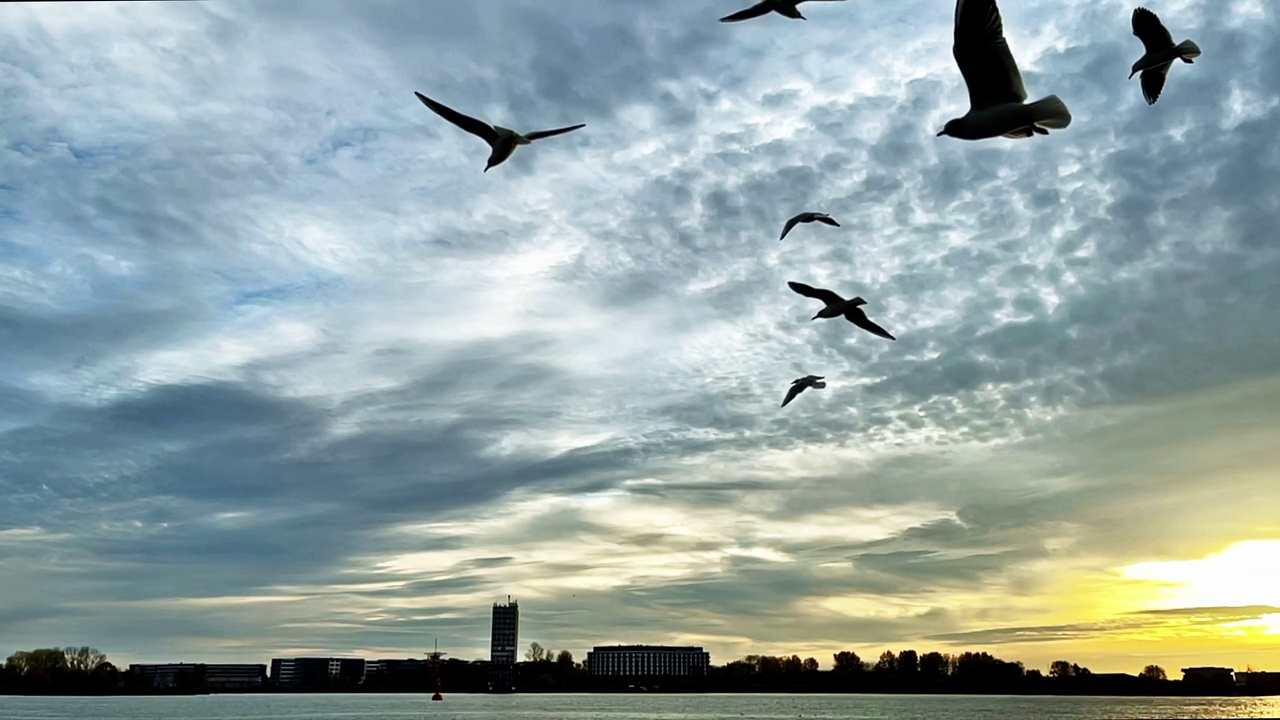bird: (937, 1, 1072, 140), (413, 87, 586, 173), (1123, 6, 1200, 103), (786, 281, 894, 339), (718, 2, 843, 22), (778, 209, 841, 240), (781, 374, 825, 406)
